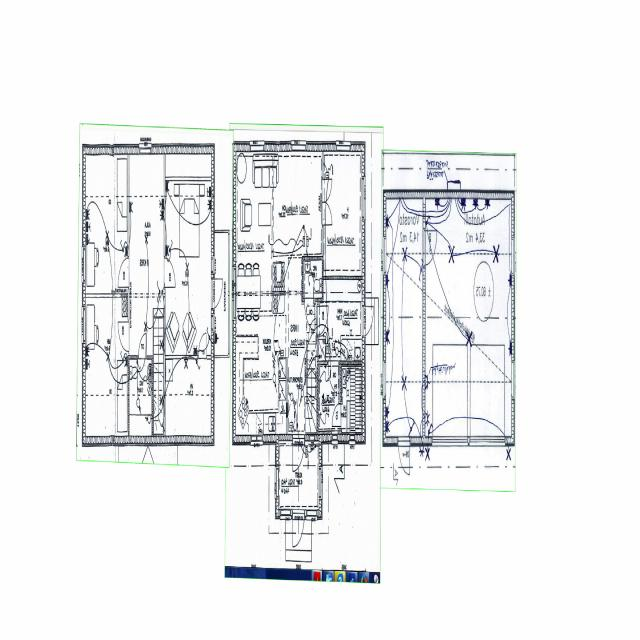door: (292, 509, 304, 555), (398, 436, 410, 480), (422, 231, 437, 265), (293, 434, 304, 476), (211, 278, 225, 308), (362, 307, 375, 336), (118, 258, 130, 287), (305, 298, 315, 332), (328, 361, 338, 394), (164, 258, 175, 288), (317, 306, 328, 335), (119, 322, 129, 350), (332, 404, 342, 426), (322, 178, 331, 202), (308, 318, 316, 345), (138, 332, 146, 359), (322, 202, 331, 224), (199, 332, 206, 359)
